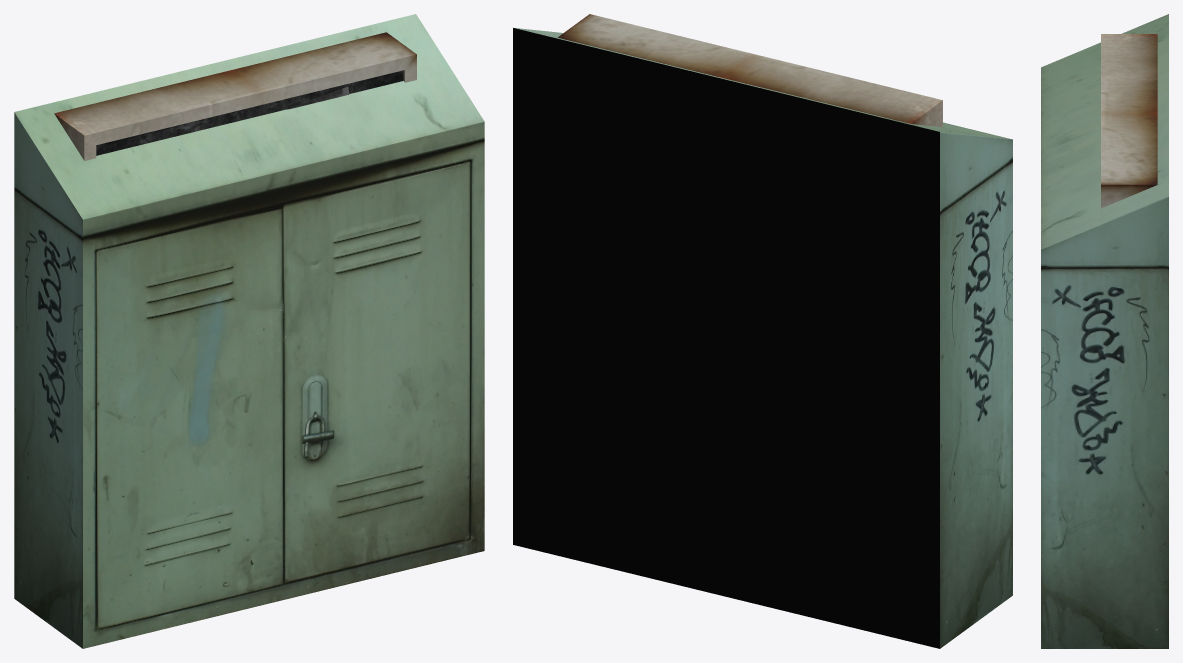
3 views of the same model, side by side, from view 1: azimuth 30°, elevation 25°; view 2: azimuth 150°, elevation 25°; view 3: azimuth 270°, elevation 25° (orthographic). The views are drawn at different scales.
Visible parts, largest first — view 1: Temp, XRayBox; view 2: Temp, XRayBox; view 3: Temp, XRayBox.
Part boxes in pixels (x1,y1,x2,y2): Temp: (14, 14, 484, 648); XRayBox: (54, 32, 416, 160); Temp: (513, 28, 1012, 648); XRayBox: (558, 14, 942, 127); Temp: (1041, 14, 1168, 648); XRayBox: (1101, 34, 1157, 208).
Bounding box in the file's own units: 120 × 138 × 35.4.
